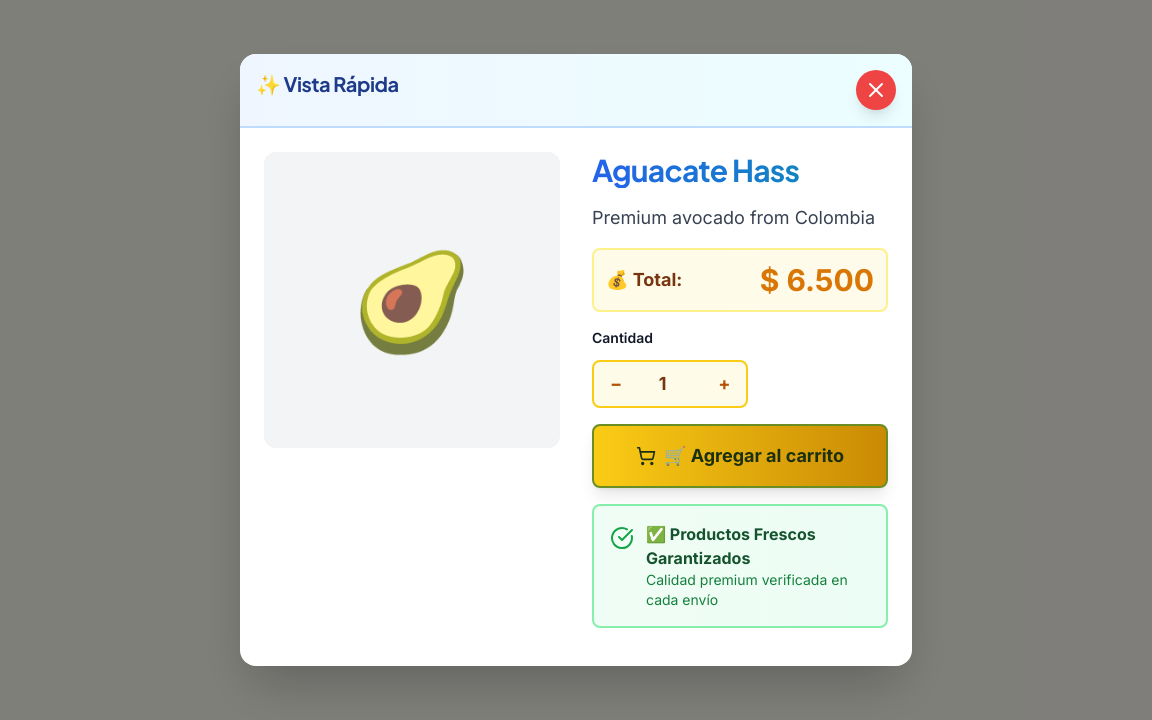
Test case: 🛒 ProductQuickViewModal - Funcionalidad de Cantidad › ✅ Debe calcular el total correcto (precio × cantidad)
Click the button "+".
click(724, 384)  # box [702, 362, 746, 406]
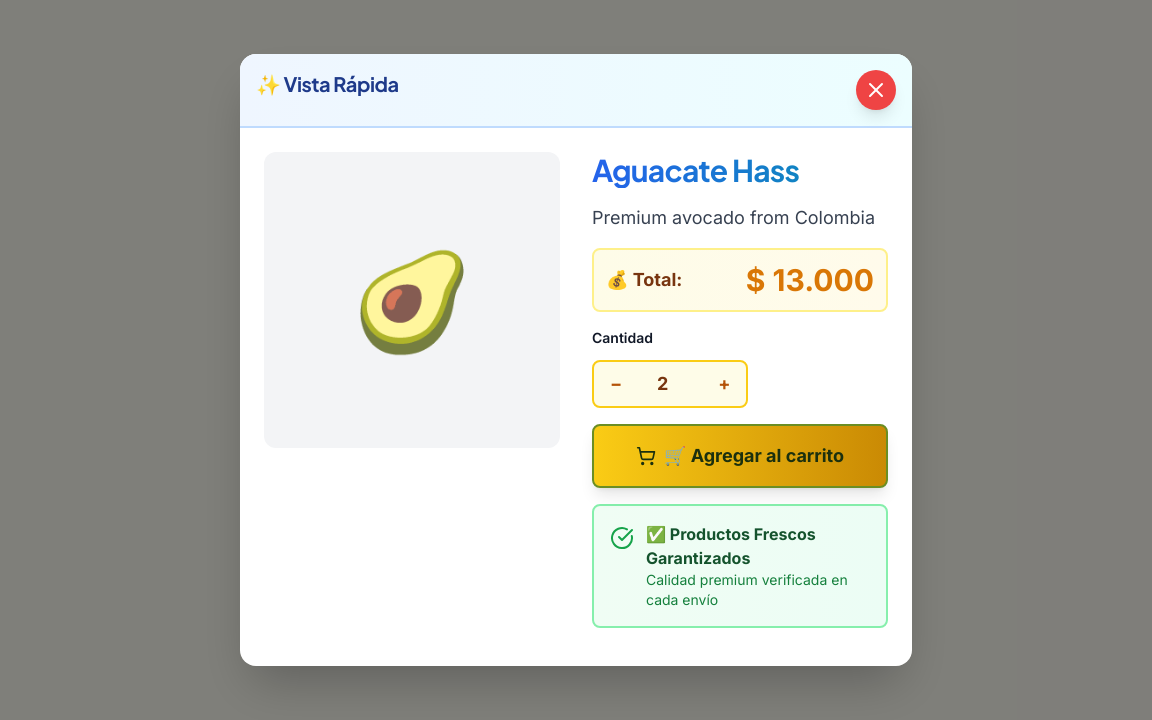
Click the button "+".
click(724, 384)  # box [702, 362, 746, 406]
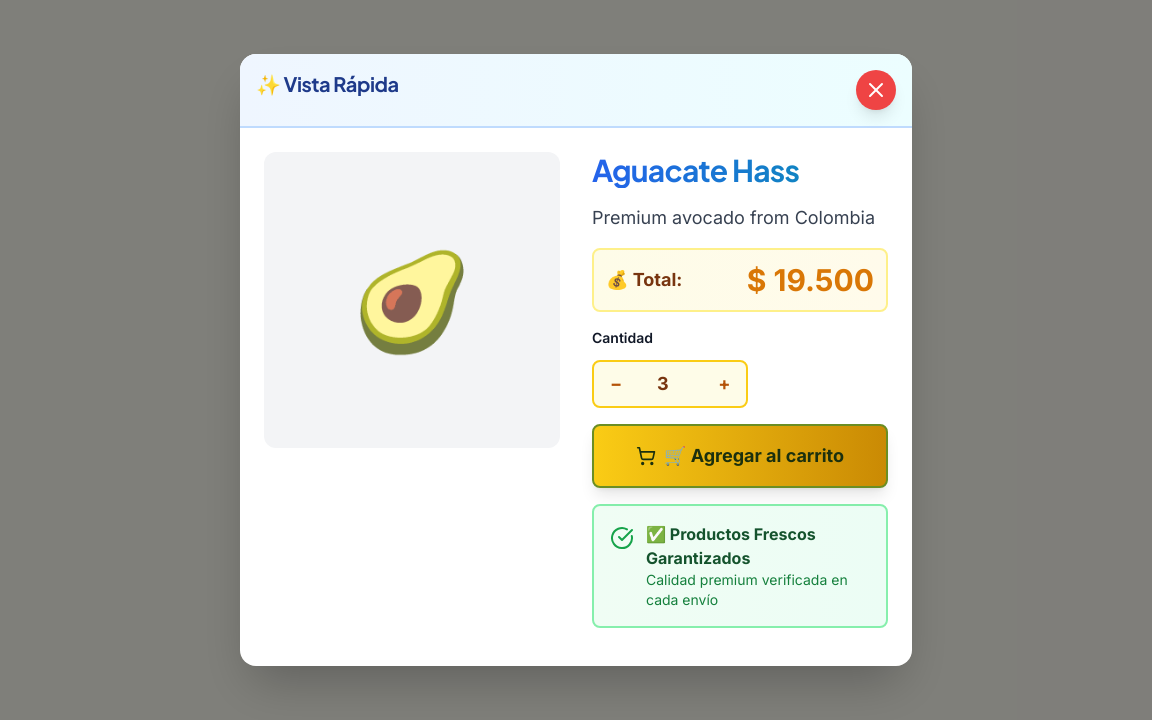
Result: the text "$ 19.500" is shown at [747, 262, 874, 298]
